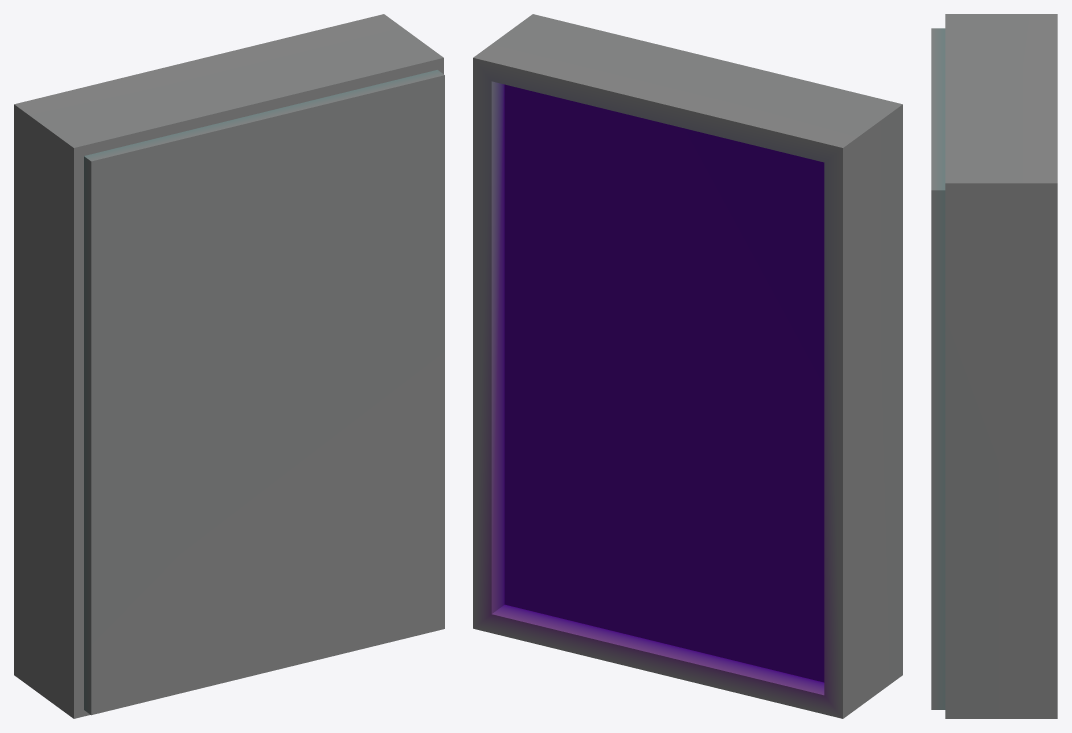
3 views of the same model, side by side, from view 1: azimuth 30°, elevation 25°; view 2: azimuth 150°, elevation 25°; view 3: azimuth 270°, elevation 25° (orthographic). The views are drawn at different scales.
Parts seen in each view (by area): view 1: panel, housing; view 2: housing; view 3: housing, panel.
Part boxes in pixels (x1=…): panel: x1=84, y1=70, x2=444, y2=715; housing: x1=14, y1=14, x2=443, y2=718; housing: x1=473, y1=14, x2=902, y2=718; housing: x1=945, y1=14, x2=1057, y2=718; panel: x1=931, y1=28, x2=945, y2=709.
Bounding box in the file's own units: 0.407 × 0.6 × 0.128.
